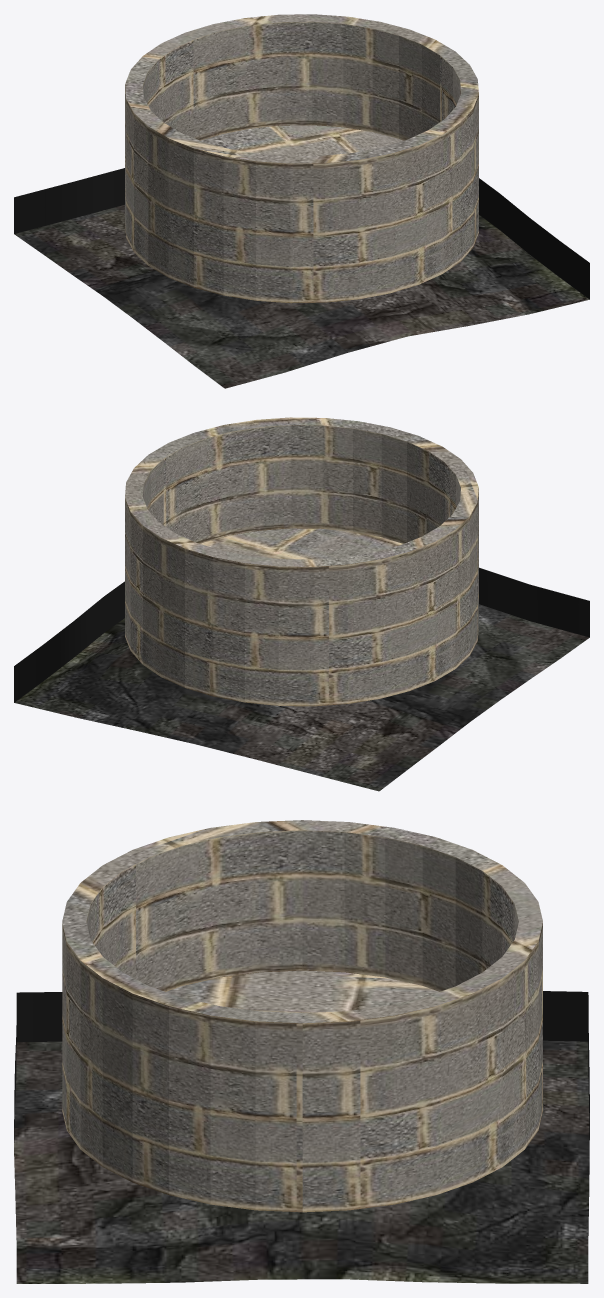
The picture shows the model from 3 angles, top to bottom: view 1: azimuth 30°, elevation 25°; view 2: azimuth 150°, elevation 25°; view 3: azimuth 270°, elevation 25°; orthographic projection. The views are drawn at different scales.
Visible parts, largest first — view 1: Cylinder.011; view 2: Cylinder.011; view 3: Cylinder.011.
Boxes of the visible parts, left/top/right/bottom form: Cylinder.011: left=14, top=14, right=589, bottom=388; Cylinder.011: left=14, top=417, right=589, bottom=791; Cylinder.011: left=14, top=820, right=589, bottom=1283.
Size of the model in its own units: 0.3797 by 0.176 by 0.3806.
2 materials, 2 textured.
